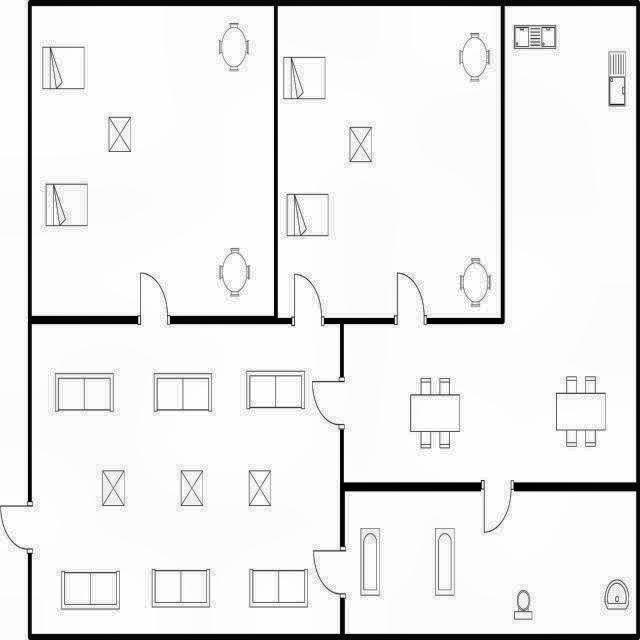room: (344, 6, 636, 482), (31, 324, 340, 634), (32, 6, 274, 316), (278, 6, 501, 318), (345, 489, 636, 634)
